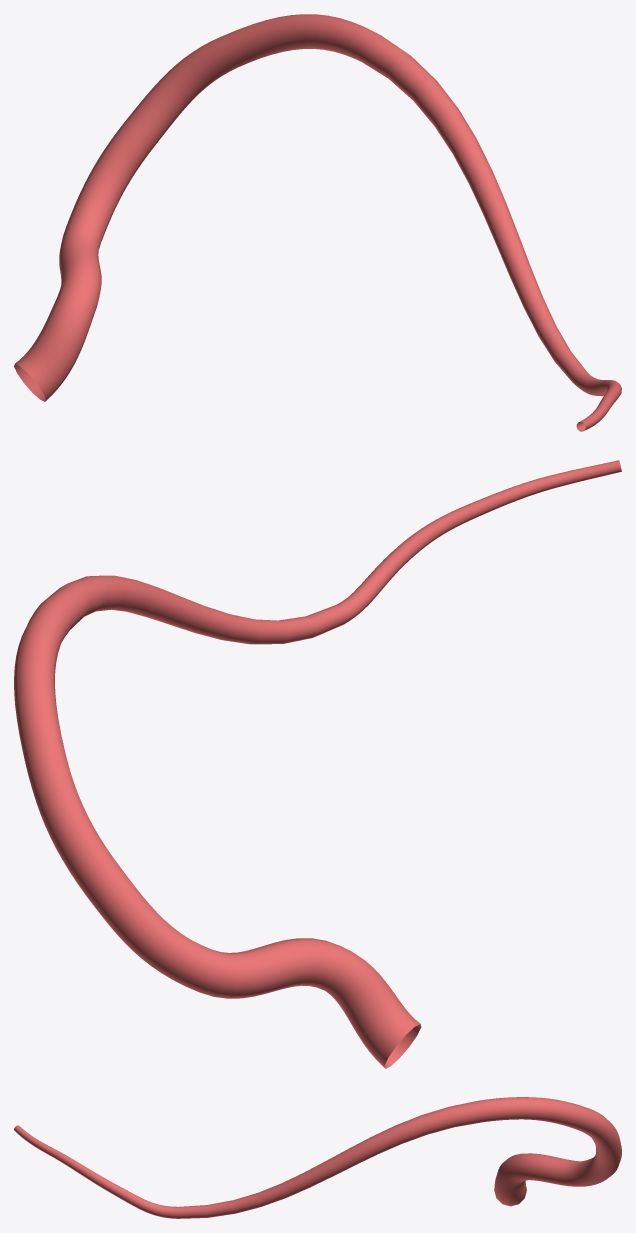
Rendered from Circumflex_fibular_branch_of_posterior_tibial_artery.l_BezierCu.glb.
The picture shows the model from 3 angles, top to bottom: view 1: azimuth 30°, elevation 25°; view 2: azimuth 150°, elevation 25°; view 3: azimuth 270°, elevation 25°; orthographic projection. The views are drawn at different scales.
Parts seen in each view (by area): view 1: Circumflex_fibular_branch_of_posterior_tibial_artery.l_Bezie; view 2: Circumflex_fibular_branch_of_posterior_tibial_artery.l_Bezie; view 3: Circumflex_fibular_branch_of_posterior_tibial_artery.l_Bezie.
Boxes of the visible parts, x1=… form: Circumflex_fibular_branch_of_posterior_tibial_artery.l_Bezie: x1=14, y1=14, x2=621, y2=431; Circumflex_fibular_branch_of_posterior_tibial_artery.l_Bezie: x1=14, y1=460, x2=621, y2=1068; Circumflex_fibular_branch_of_posterior_tibial_artery.l_Bezie: x1=14, y1=1097, x2=621, y2=1218.
Bounding box in the file's own units: 0.0318 × 0.0263 × 0.0702.
